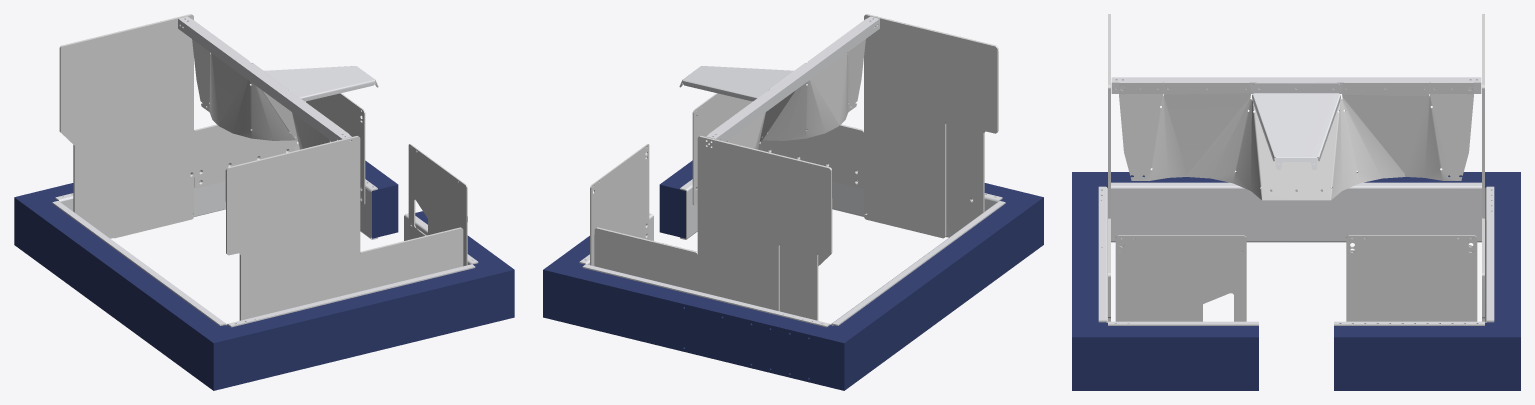
File: 2026 - 1706 bumper hopper.fbx
3 views of the same model, side by side, from view 1: azimuth 30°, elevation 25°; view 2: azimuth 150°, elevation 25°; view 3: azimuth 270°, elevation 25° (orthographic). The views are drawn at different scales.
Parts seen in each view (by area): view 1: Part 5.001, Left Hopper, Left Hopper-Mirrored, Part 15, Part 23, Part 20, Part 22, Part 13, Part 16, Part 21, Rear Bumper, Right Bumper (+2 smaller); view 2: Part 5.001, Left Hopper-Mirrored, Left Hopper, Part 15, Part 21, Part 22, Part 23, Part 13, Part 16, Part 20, Rear Bumper, Left Bumper (+2 smaller); view 3: Part 5.001, Part 15, Rear Bumper, Part 21, Part 20, Part 16, Part 13, Left Bumper, Right Bumper, Front Bumper, Front Bumper.001, Left Hopper (+1 smaller).
Part boxes in pixels (x1,y1,x2,y2): Part 5.001: (14, 160, 514, 390); Left Hopper: (59, 14, 193, 238); Left Hopper-Mirrored: (225, 136, 360, 320); Part 15: (192, 19, 349, 149); Part 23: (360, 227, 463, 291); Part 20: (408, 144, 467, 266); Part 22: (194, 124, 296, 188); Part 13: (178, 16, 351, 141); Part 16: (252, 63, 378, 101); Part 21: (306, 93, 365, 205); Rear Bumper: (52, 201, 226, 325); Right Bumper: (227, 264, 475, 327); Part 5.001: (543, 160, 1043, 390); Left Hopper-Mirrored: (864, 14, 998, 238); Left Hopper: (697, 136, 832, 320); Part 15: (708, 18, 866, 149); Part 21: (590, 144, 649, 265); Part 22: (594, 227, 697, 291); Part 23: (760, 124, 863, 188); Part 13: (706, 16, 879, 141); Part 16: (679, 63, 805, 101); Part 20: (692, 93, 751, 205); Rear Bumper: (831, 201, 1005, 325); Left Bumper: (582, 264, 830, 327); Part 5.001: (1072, 172, 1520, 390); Part 15: (1119, 82, 1473, 200); Rear Bumper: (1111, 182, 1481, 242); Part 21: (1346, 235, 1477, 321); Part 20: (1115, 235, 1246, 321); Part 16: (1252, 83, 1340, 169); Part 13: (1111, 77, 1481, 93); Left Bumper: (1485, 186, 1494, 322); Right Bumper: (1098, 186, 1107, 322); Front Bumper: (1334, 321, 1484, 325); Front Bumper.001: (1108, 321, 1258, 325); Left Hopper: (1482, 14, 1484, 218).
Size of the model in its own units: 79.69 by 51.75 by 91.44.
